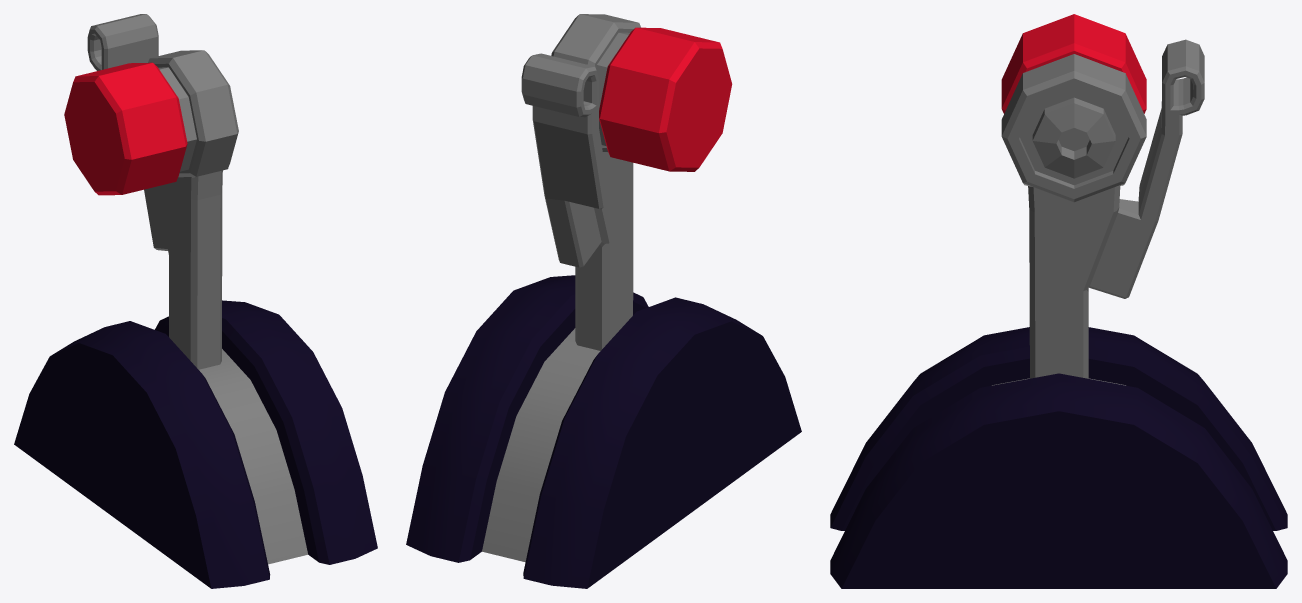
Rendered from GearLever.fbx.
The picture shows the model from 3 angles, left to right: view 1: azimuth 30°, elevation 25°; view 2: azimuth 150°, elevation 25°; view 3: azimuth 270°, elevation 25°; orthographic projection. The views are drawn at different scales.
Visible parts, largest first — view 1: GearLeverBase.001, GearLever; view 2: GearLeverBase.001, GearLever; view 3: GearLeverBase.001, GearLever.
Boxes of the visible parts, x1=… form: GearLeverBase.001: x1=14, y1=300, x2=377, y2=588; GearLever: x1=64, y1=14, x2=238, y2=369; GearLeverBase.001: x1=406, y1=275, x2=801, y2=588; GearLever: x1=521, y1=14, x2=732, y2=350; GearLeverBase.001: x1=830, y1=327, x2=1287, y2=588; GearLever: x1=1001, y1=14, x2=1204, y2=378.
Bounding box in the file's own units: 0.1087 × 0.2197 × 0.2559.
